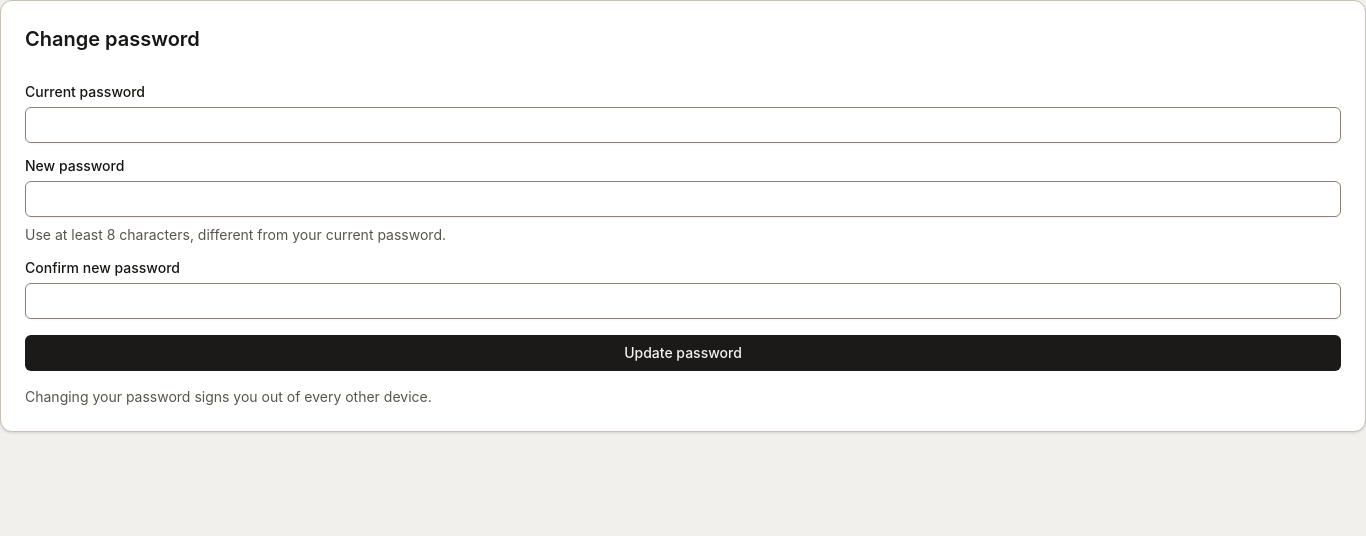
ChangePassword › maps a 429 rate-limit to the localized message
In the password field labelled "Current password": [683, 125] box [25,107,1341,143], type "oldpassword-1"
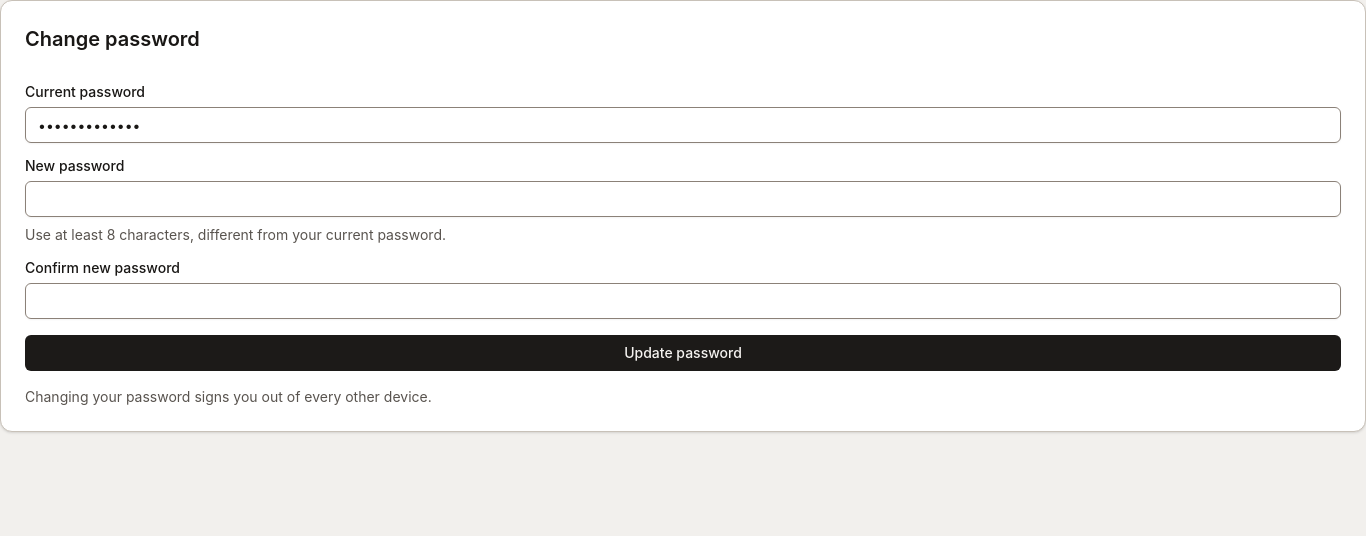
In the password field labelled "New password": [683, 199] box [25,181,1341,217], type "brand-new-pass"
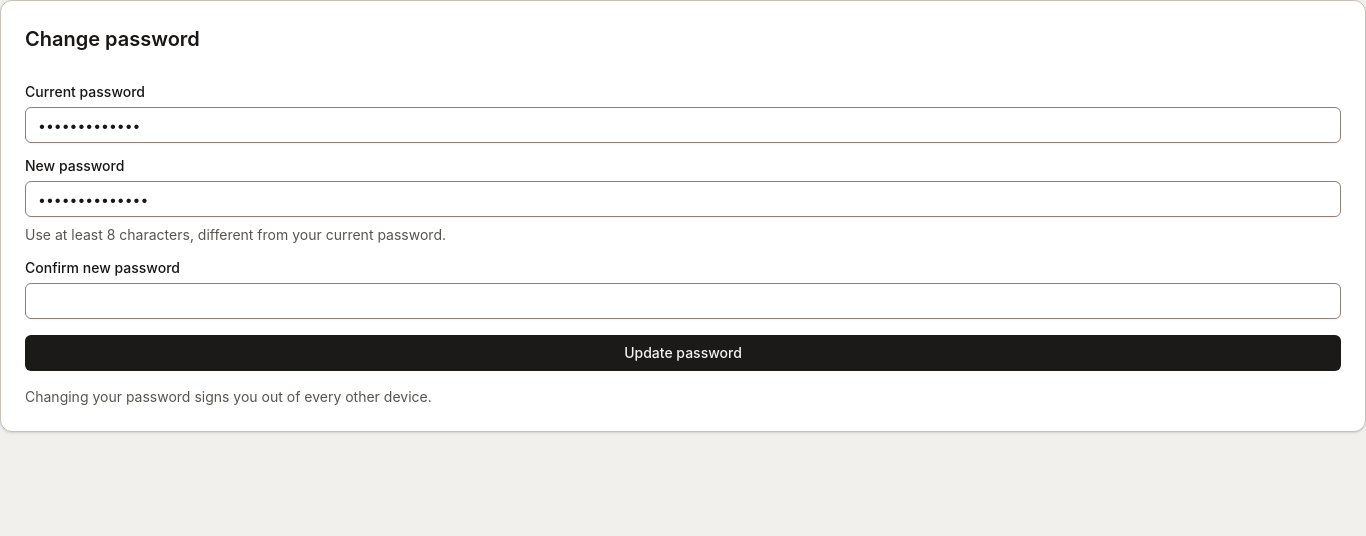
In the password field labelled "Confirm new password": [683, 301] box [25,283,1341,319], type "brand-new-pass"
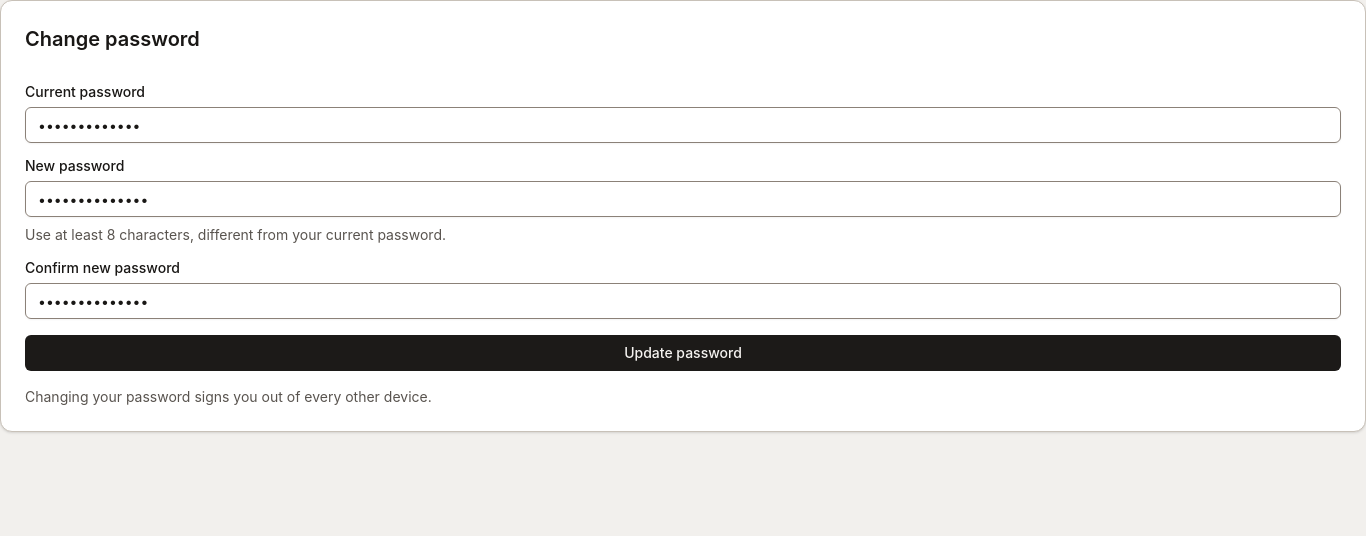
Click the button "Update password": [683, 353] box [25,335,1341,371]
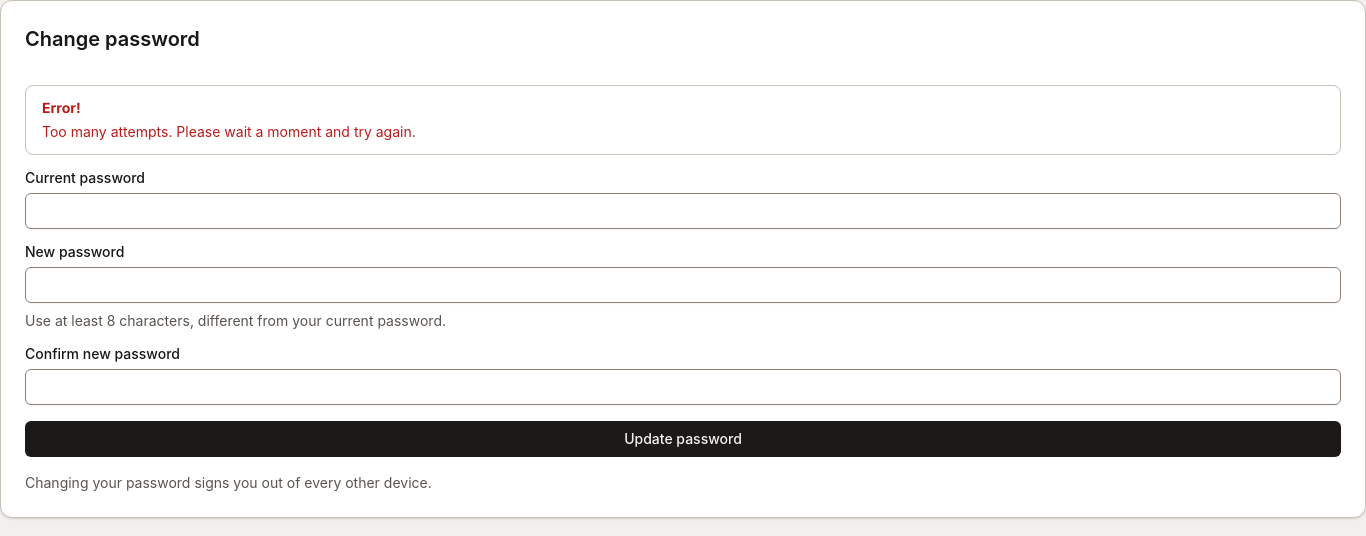
Now the message shows "Too many attempts", box [42,123,416,140]
